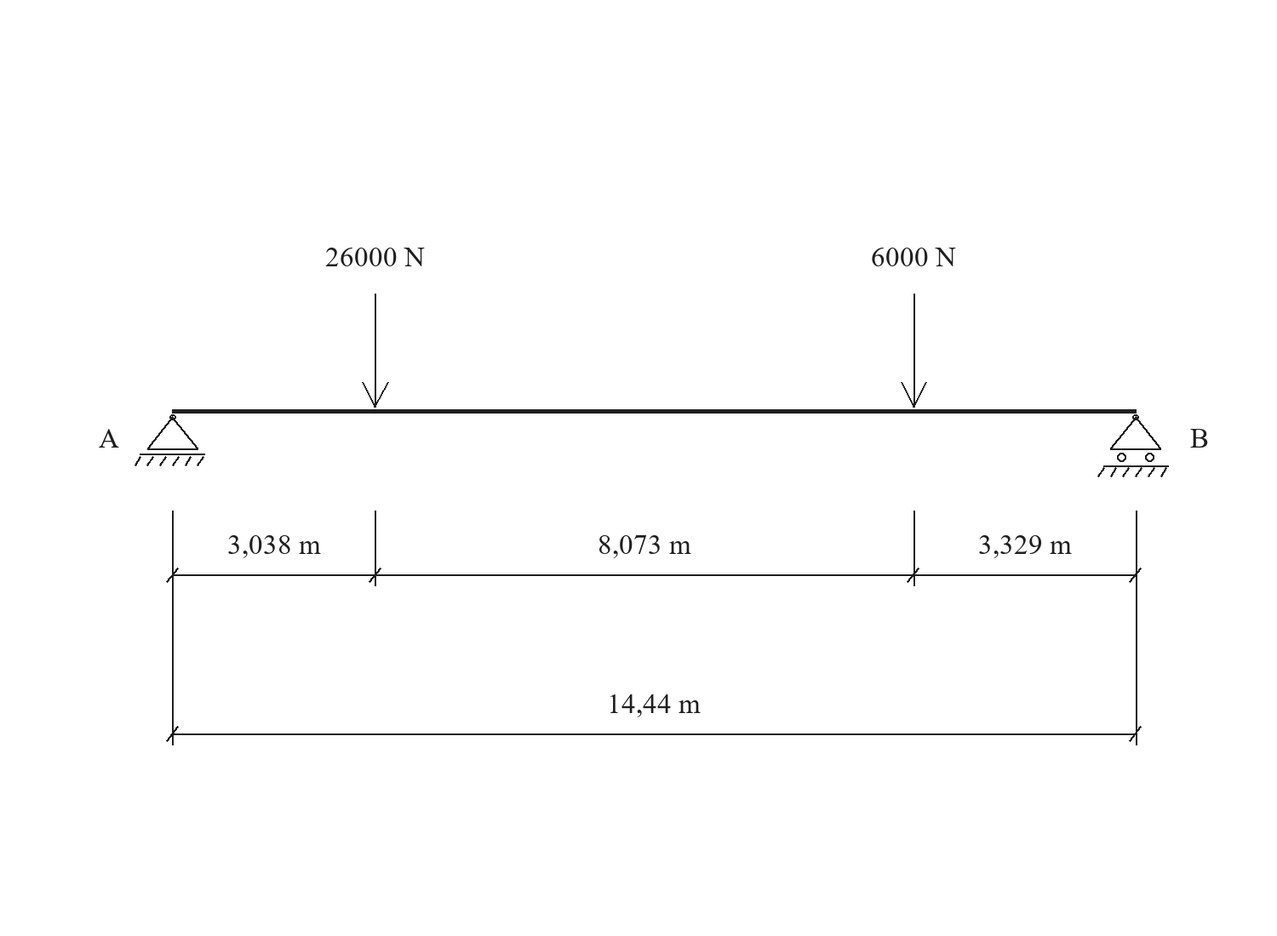pin_support: (135, 414, 205, 466)
point_load: (362, 294, 389, 408), (901, 294, 927, 408)
roller_support: (1097, 414, 1169, 477)
